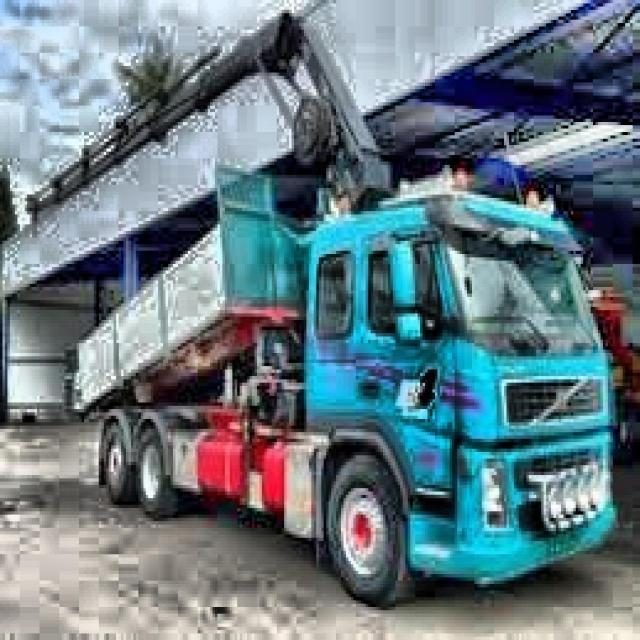dump_truck: (70, 164, 618, 606)
